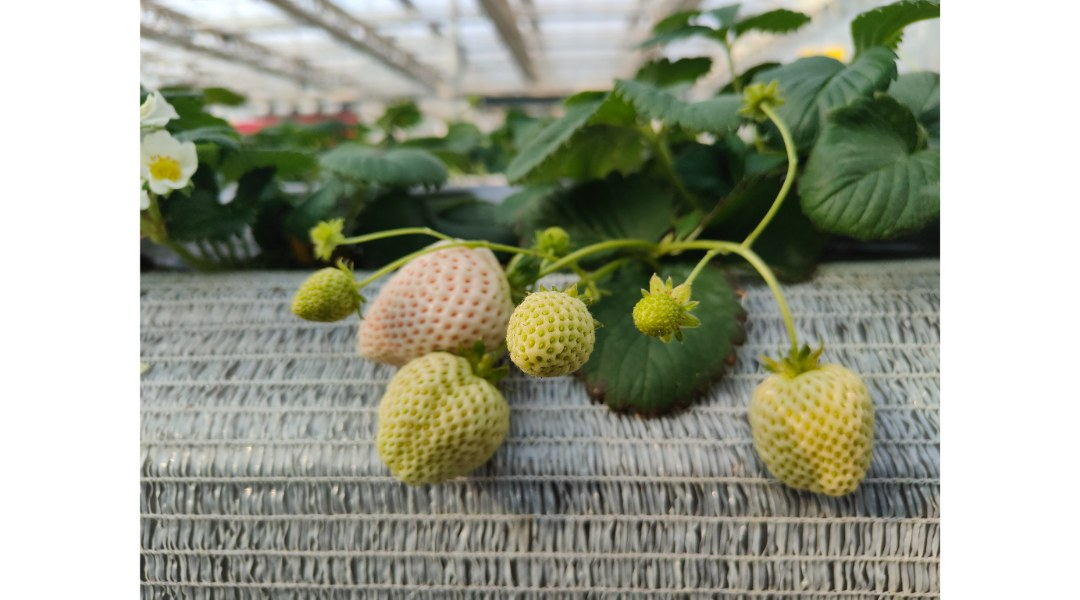berry: (333, 230, 517, 382), (744, 341, 887, 509), (368, 351, 519, 495), (505, 288, 605, 373), (628, 269, 711, 354), (288, 256, 366, 322)
strain: (759, 108, 803, 246), (744, 266, 813, 346), (577, 228, 659, 258)
